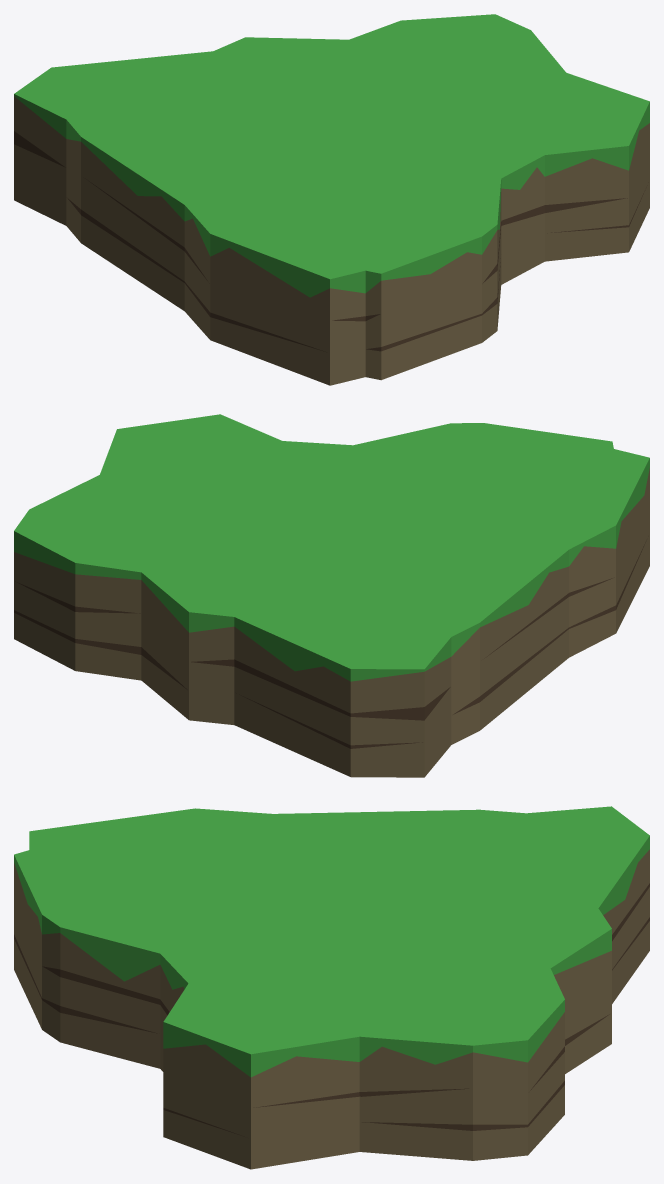
Rendered from Ground_12.FBX.
3 renders of one model, top to bottom at view 1: azimuth 30°, elevation 25°; view 2: azimuth 150°, elevation 25°; view 3: azimuth 270°, elevation 25°, orthographic. The views are drawn at different scales.
Parts seen in each view (by area): view 1: Ground_12; view 2: Ground_12; view 3: Ground_12.
Boxes of the visible parts, box(x1,y1,x2,y2) form: Ground_12: box(14, 14, 649, 385); Ground_12: box(14, 414, 649, 777); Ground_12: box(14, 806, 649, 1169).
Size of the model in its own units: 13.98 by 3.03 by 15.16.
